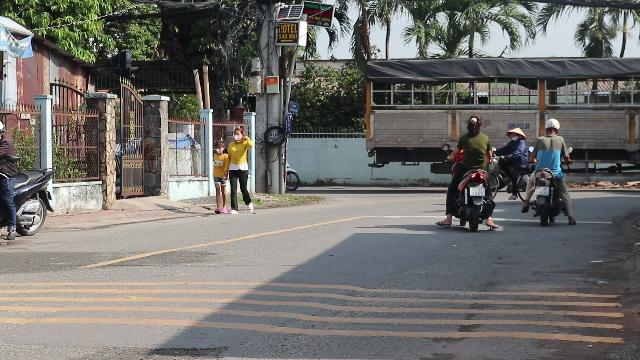licenseplate: (470, 187, 484, 195)
motorcyclist: (440, 114, 498, 231)
nohelmet: (465, 114, 483, 134)
